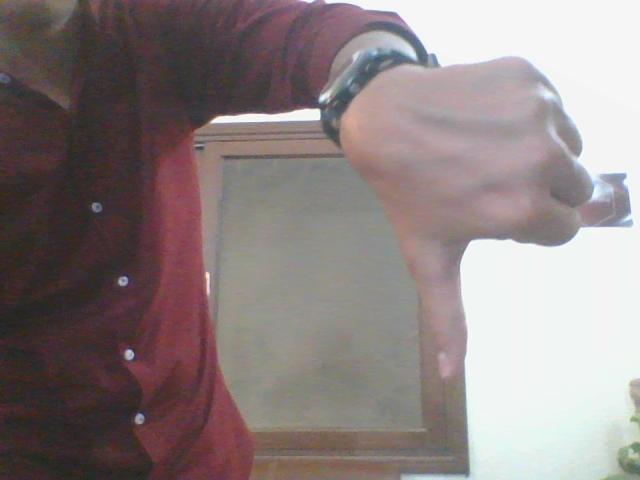thumbs-down: (398, 57, 592, 384)
